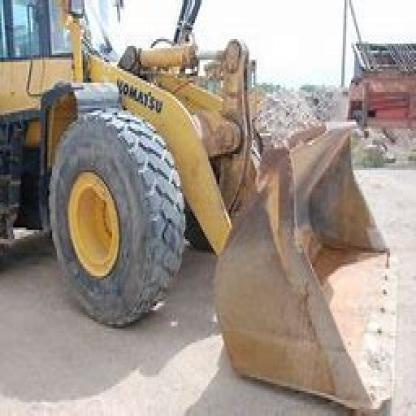bull_dozer/loader/grader: (3, 2, 403, 414)
